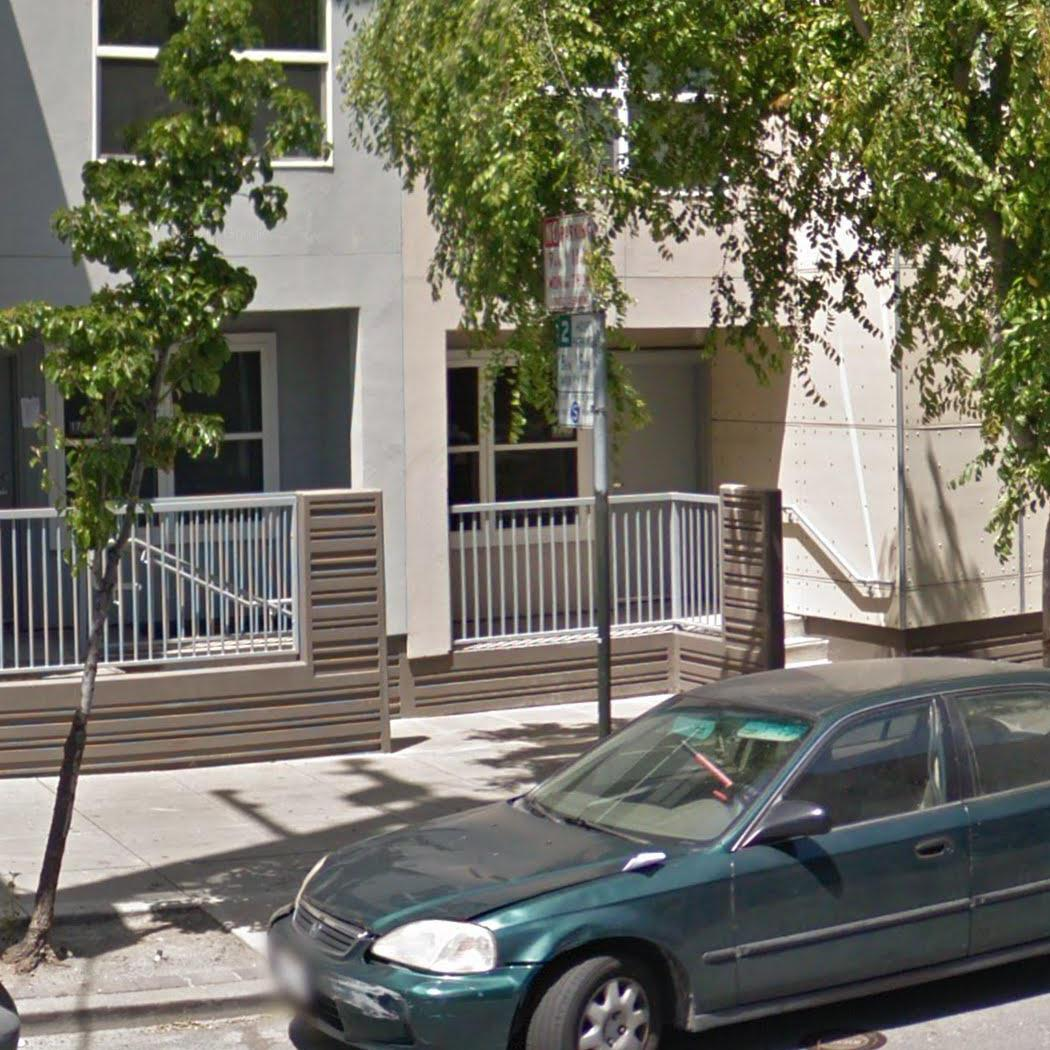2 Hour Parking: (553, 313, 599, 433)
No Parking: (538, 208, 596, 314)
